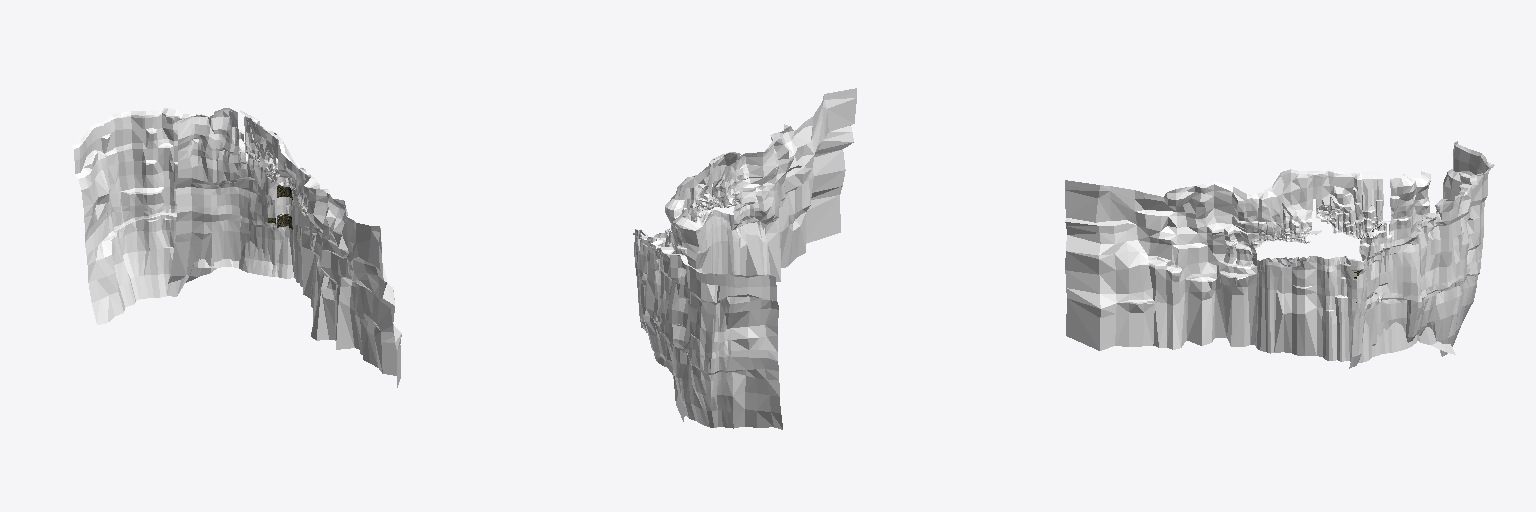
3 renders of one model, left to right at view 1: azimuth 30°, elevation 25°; view 2: azimuth 150°, elevation 25°; view 3: azimuth 270°, elevation 25°, orthographic.
Parts seen in each view (by area): view 1: mesh1, mesh2; view 2: mesh1, mesh2; view 3: mesh1, mesh2.
Part boxes in pixels (left/top/right/bottom): mesh1: left=74, top=108, right=401, bottom=387; mesh2: left=72, top=108, right=387, bottom=319; mesh1: left=633, top=88, right=856, bottom=429; mesh2: left=634, top=125, right=850, bottom=354; mesh1: left=1065, top=145, right=1488, bottom=368; mesh2: left=1065, top=141, right=1494, bottom=304.
Bounding box in the file's own units: 292 × 295 × 570.
Materials: 4 (2 with a texture image).